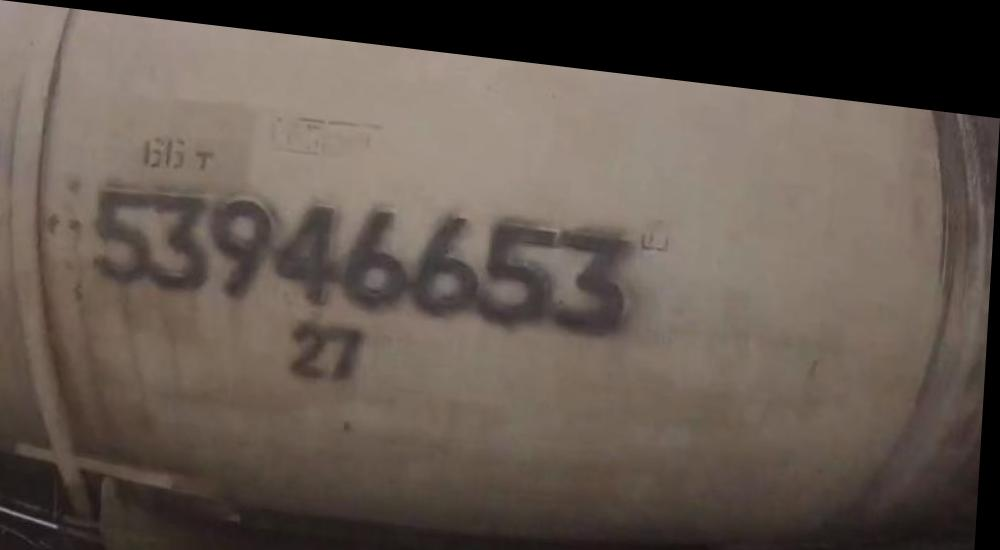Wagon-number: (87, 163, 643, 332)
